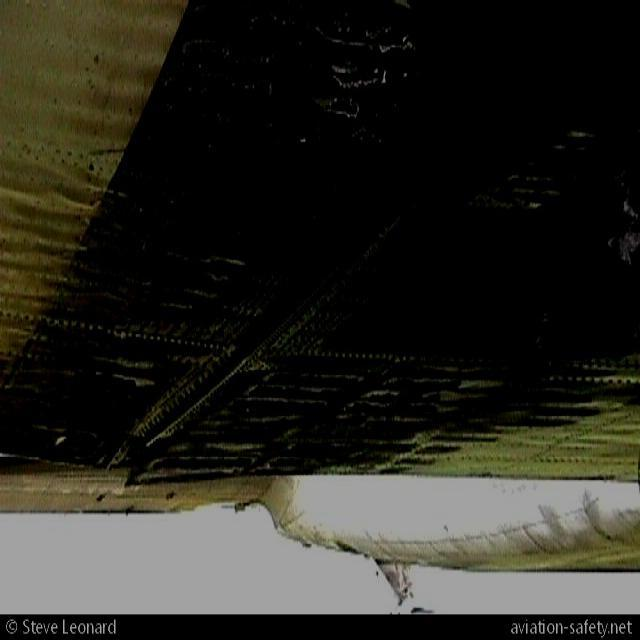crack: (300, 16, 425, 120)
